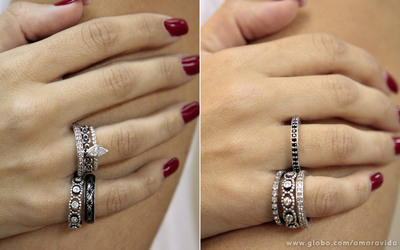mindinho: (62, 151, 182, 240), (240, 169, 392, 230)
